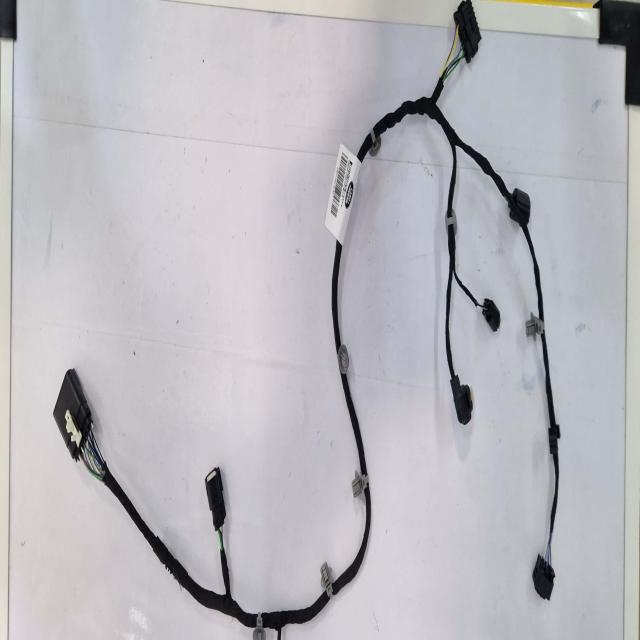Clip: (525, 313, 545, 339), (351, 472, 369, 498), (320, 563, 332, 597), (445, 208, 458, 239), (252, 612, 266, 640), (338, 344, 349, 376), (549, 424, 560, 455), (369, 128, 381, 156)
Connector: (54, 370, 91, 461), (454, 0, 481, 63), (205, 467, 226, 532), (532, 555, 555, 600), (451, 376, 472, 424), (509, 188, 531, 228), (482, 299, 500, 333)
Gape: (434, 22, 469, 95), (72, 424, 105, 486), (470, 284, 489, 320), (214, 521, 226, 555), (544, 532, 556, 564)
Info: (325, 142, 361, 245)
MHEV_N11_Cable: (356, 80, 560, 597), (104, 467, 252, 626), (332, 484, 371, 595), (262, 592, 326, 637), (341, 373, 366, 478), (331, 239, 342, 356)
